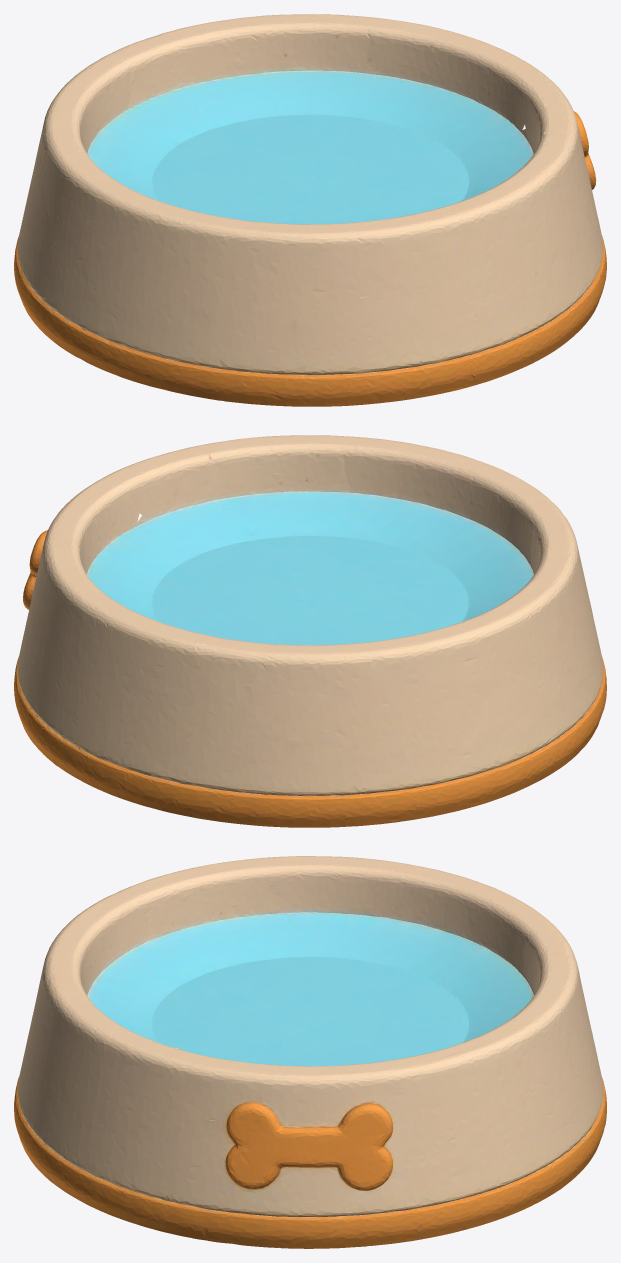
File: bowl_water_1.glb
3 views of the same model, one above another, from view 1: azimuth 30°, elevation 25°; view 2: azimuth 150°, elevation 25°; view 3: azimuth 270°, elevation 25° (orthographic).
Visible parts, largest first — view 1: tripo_node_643228f1-81e5-4e9f-af3e-1245a9296d55; view 2: tripo_node_643228f1-81e5-4e9f-af3e-1245a9296d55; view 3: tripo_node_643228f1-81e5-4e9f-af3e-1245a9296d55.
Part boxes in pixels (<box>): tripo_node_643228f1-81e5-4e9f-af3e-1245a9296d55: <box>14,14,606,406</box>; tripo_node_643228f1-81e5-4e9f-af3e-1245a9296d55: <box>14,435,606,827</box>; tripo_node_643228f1-81e5-4e9f-af3e-1245a9296d55: <box>14,856,606,1248</box>.
Size of the model in its own units: 0.9995 by 0.2976 by 0.9996.
Materials: 1 (1 with a texture image).
